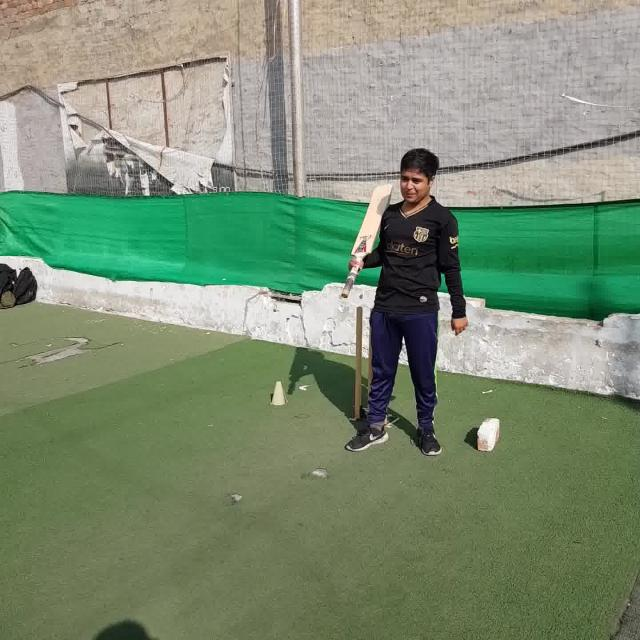bat: (344, 185, 393, 299)
